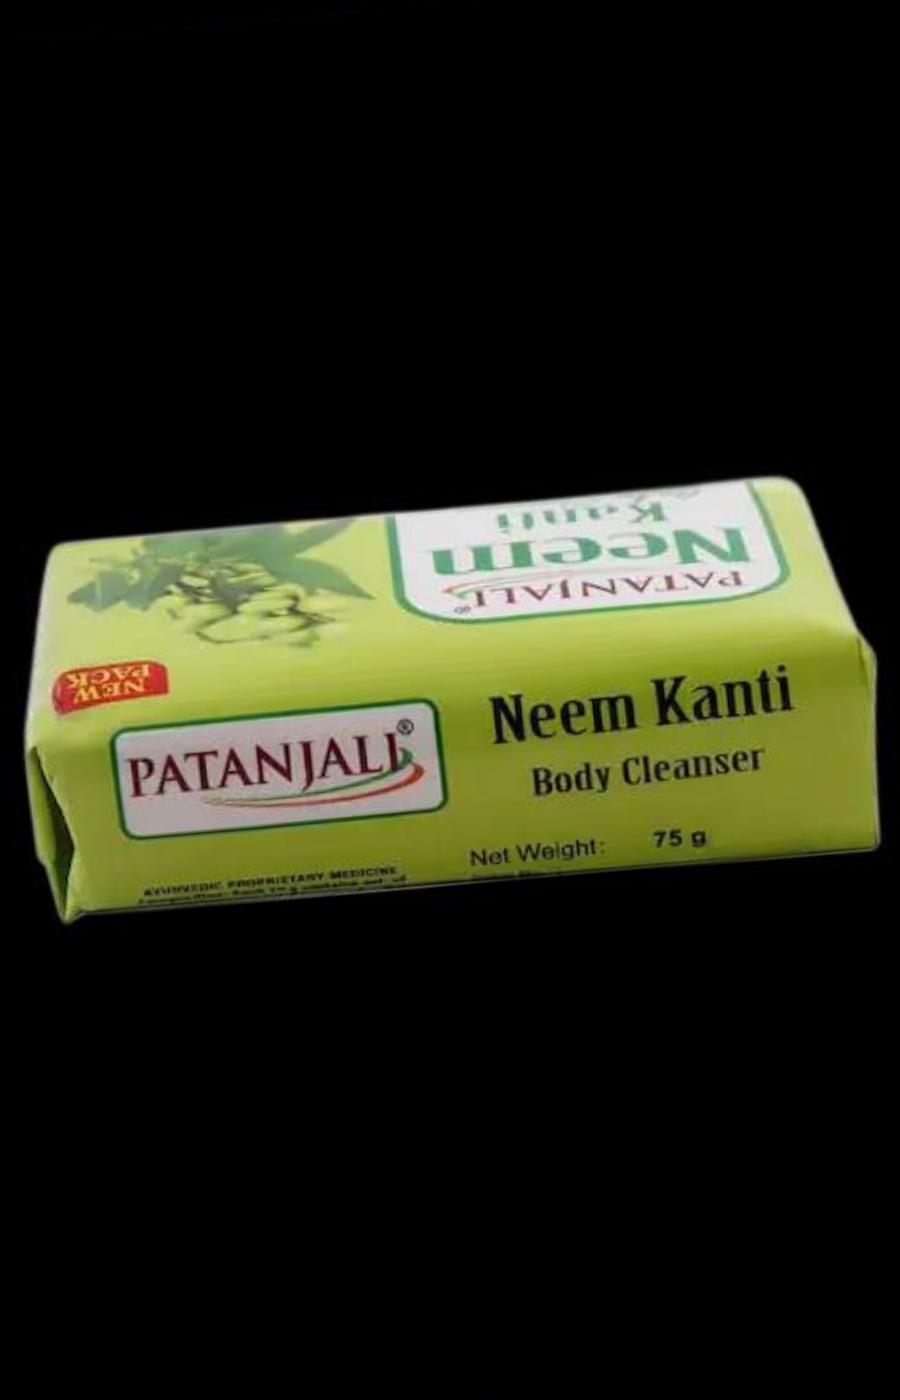Patanjali Neem Kanti Body Cleanser 75 g: (6, 446, 891, 938)
